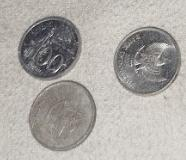coin_100_e1999: (29, 79, 100, 154), (111, 25, 181, 97), (14, 17, 82, 82)
